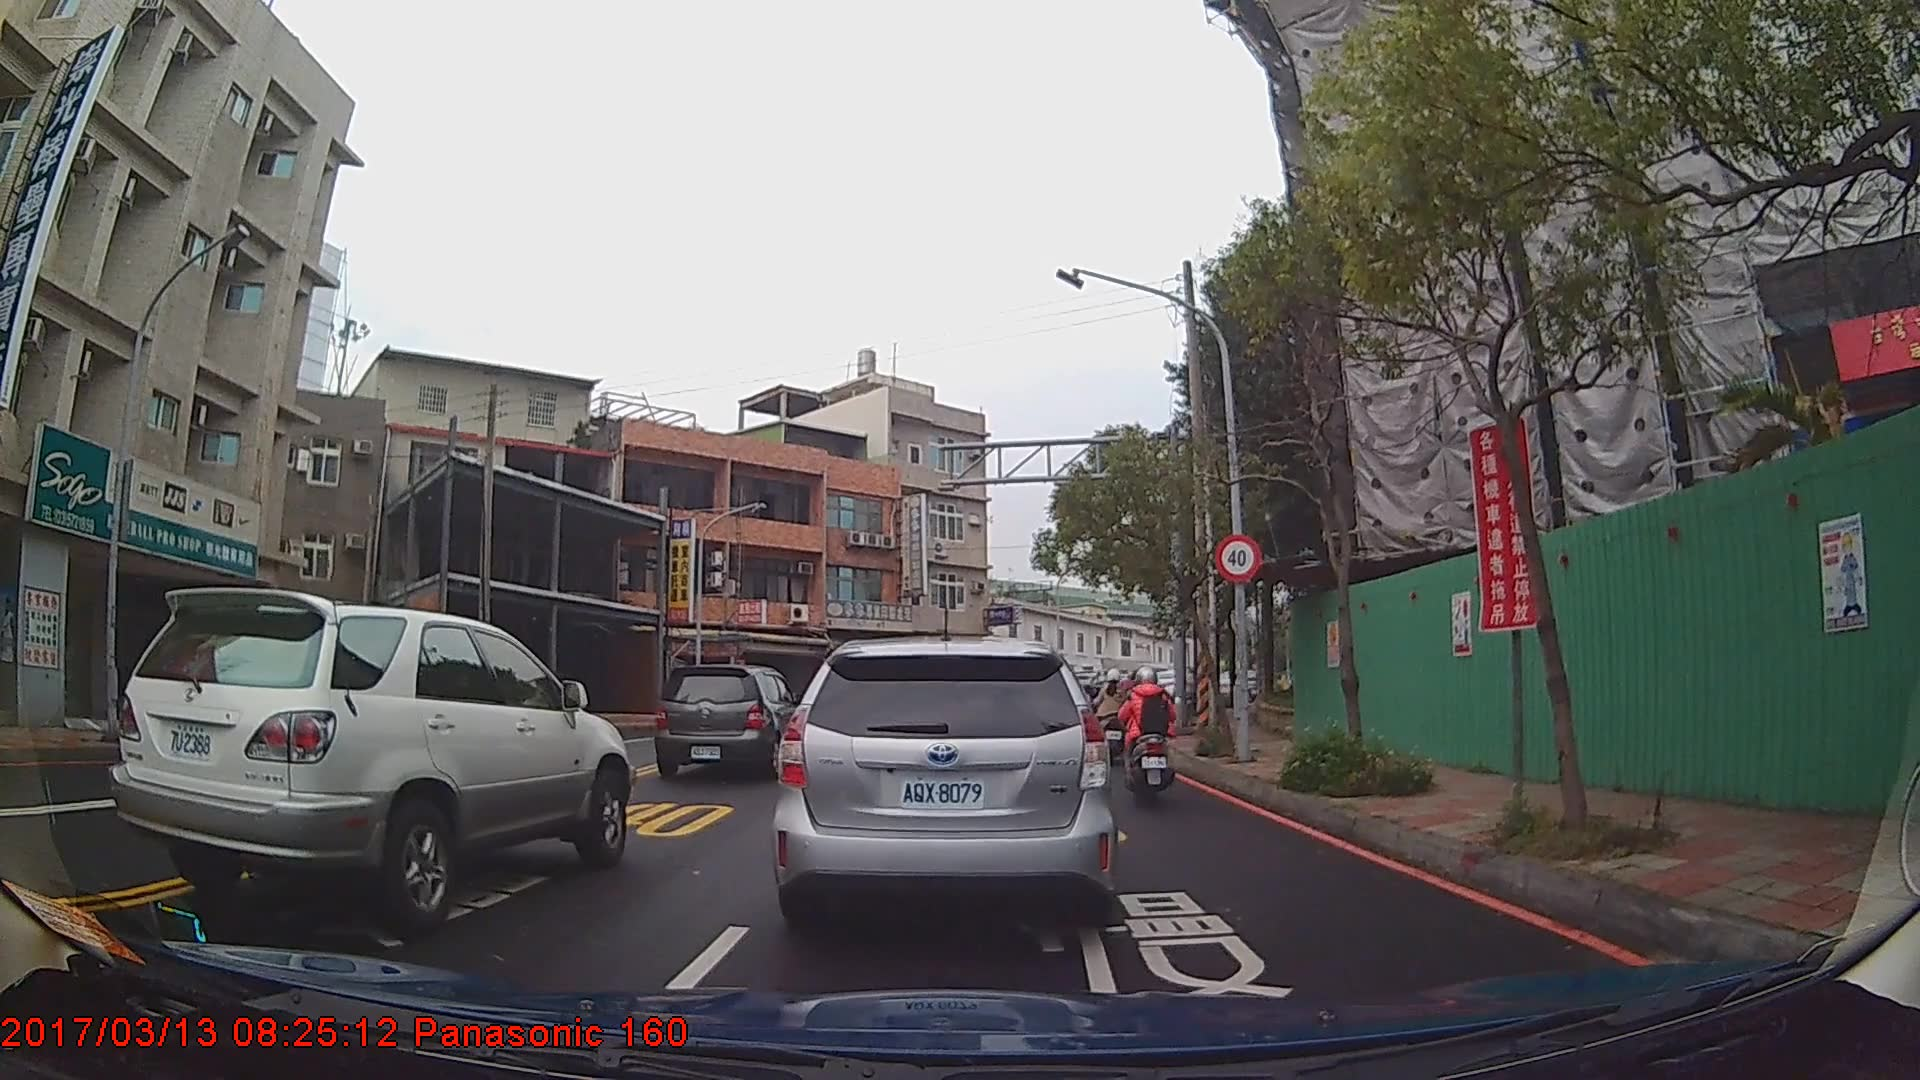rider: (1117, 671, 1181, 806), (1097, 672, 1130, 767)
vehicle: (109, 584, 631, 927), (771, 639, 1117, 940), (651, 665, 801, 779)
